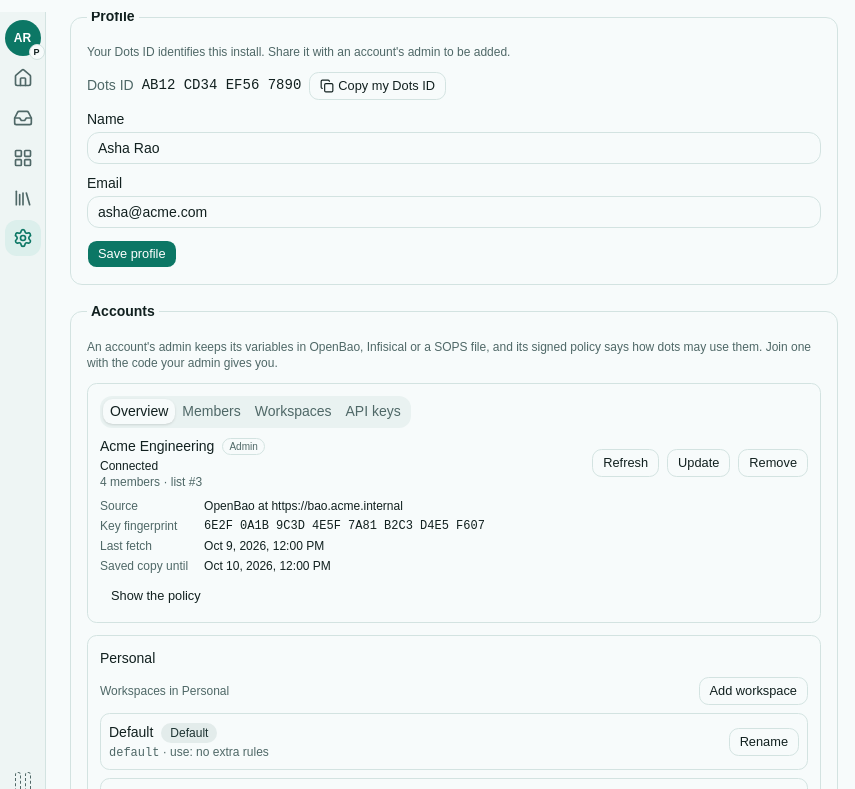
Scenario: Settings, Accounts, Workspaces › a waiting draft holds workspace edits with the draft words
The width and height of the screenshot is (855, 789).
(page scrolled)
Click the tab "Workspaces" at (293, 412), box top-left (248, 399), bottom-right (338, 424)
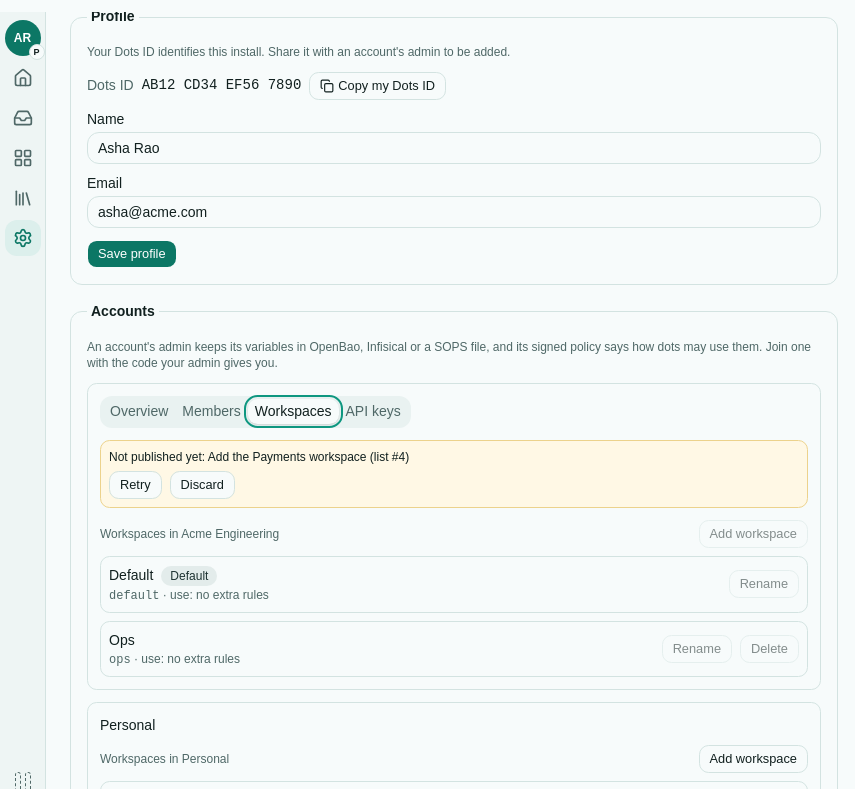
Expected: the list named "Workspaces in Acme Engineering" is shown, top-left (100, 556), bottom-right (808, 677)
Expected: the text "Not published yet: Add the Payments workspace (list #4)" is shown, top-left (109, 450), bottom-right (409, 464)
Expected: the button "Add workspace" in the row of "Acme Engineering" is disabled, top-left (698, 520), bottom-right (808, 548)
